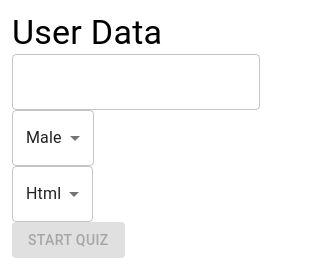
Test: Home page › change name feild and button will be enable
The image size is (332, 278).
In the field with test id "name": (136, 82) left=12, top=54, right=260, bottom=110, type "shakil"
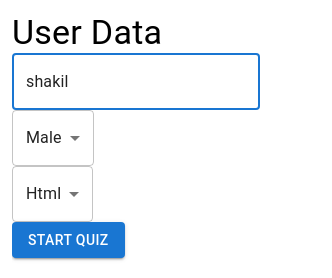
Check: the button with test id "button" is enabled, box left=12, top=222, right=125, bottom=258
